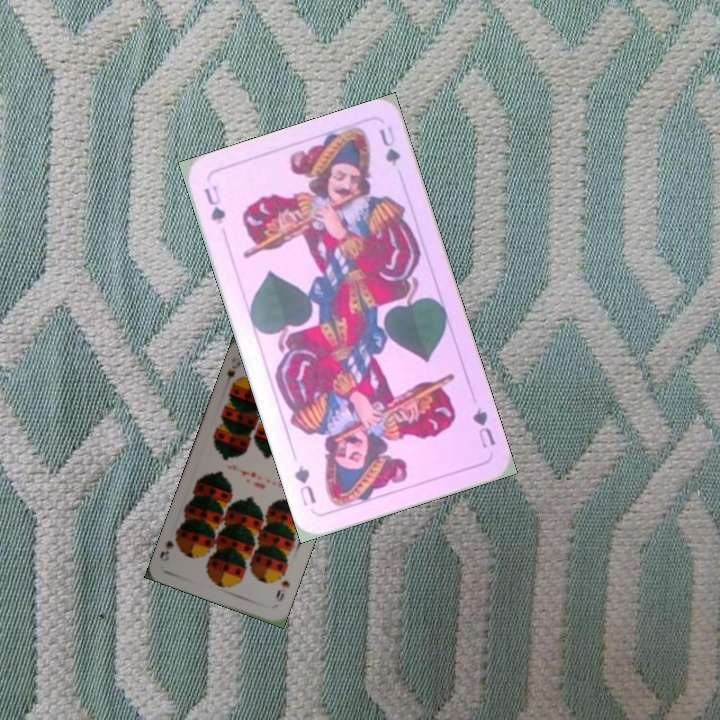GU: (468, 403, 498, 451), (199, 180, 228, 228)
S9: (221, 354, 244, 391), (272, 576, 292, 604)
